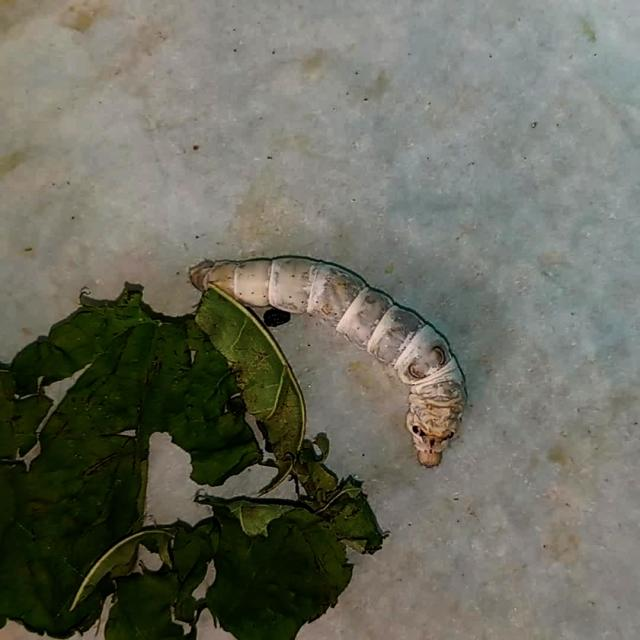Grasserie: (183, 235, 474, 480)
